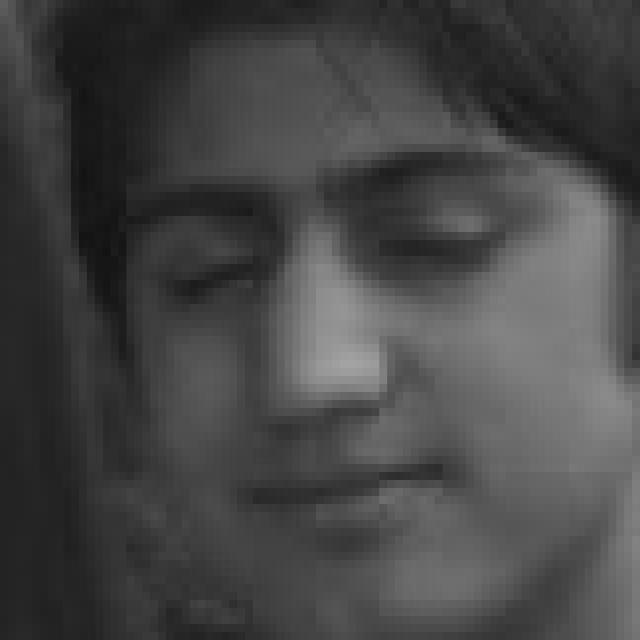real: (125, 7, 640, 640), (147, 210, 518, 316)
